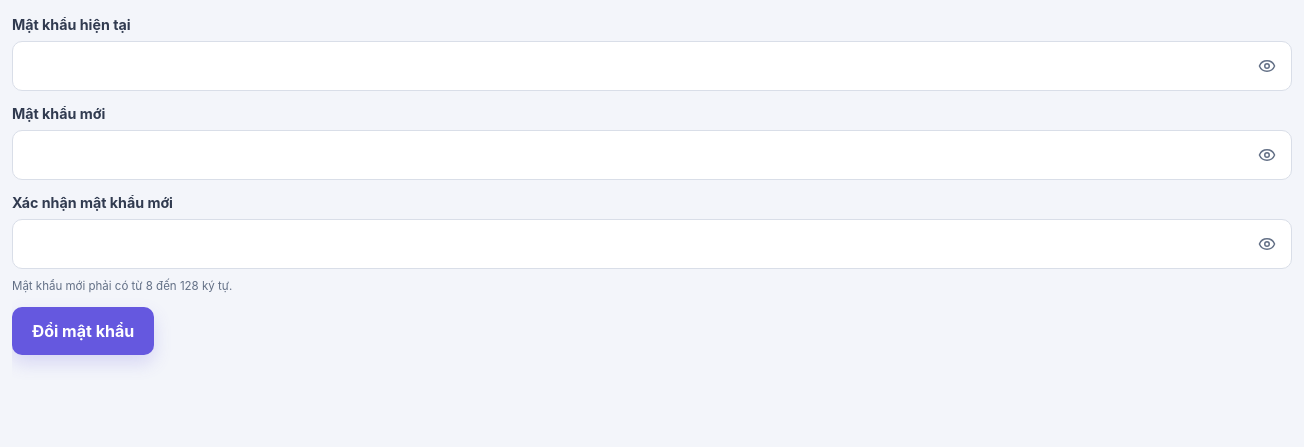
Test case: ChangePasswordForm › shows an API error and keeps the user on the form
The width and height of the screenshot is (1304, 447).
Type "old-pass-123" into the password field labelled "Mật khẩu hiện tại" at (652, 66), box [12,41,1292,91]
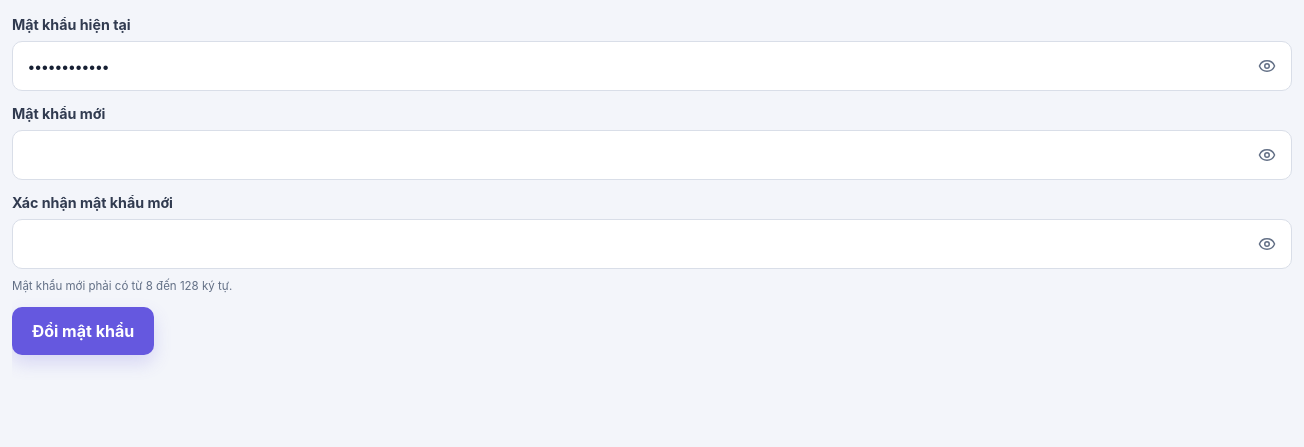
Type "new-pass-123" into the password field labelled "Mật khẩu mới" at (652, 155), box [12,130,1292,180]
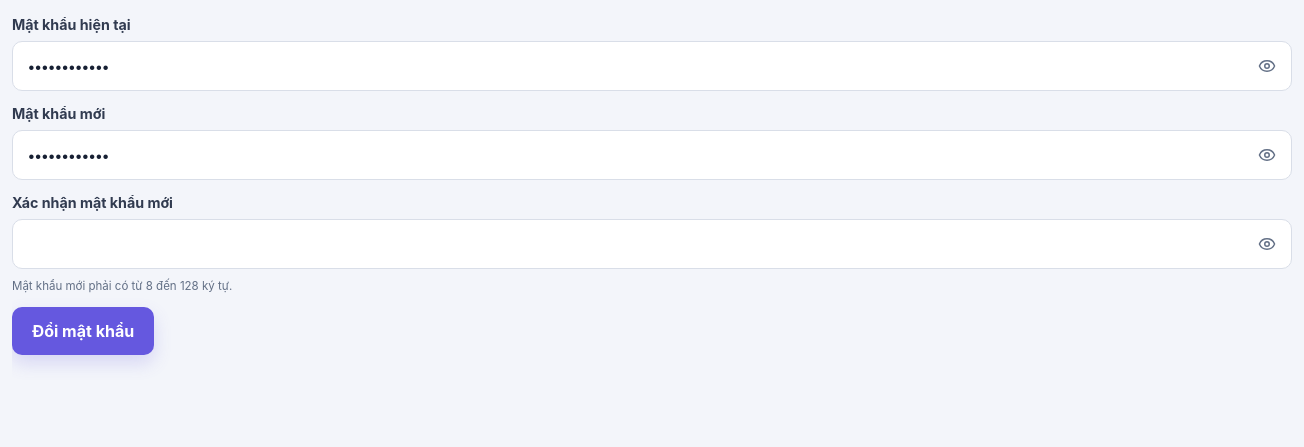
Type "new-pass-123" into the password field labelled "Xác nhận mật khẩu mới" at (652, 244), box [12,219,1292,269]
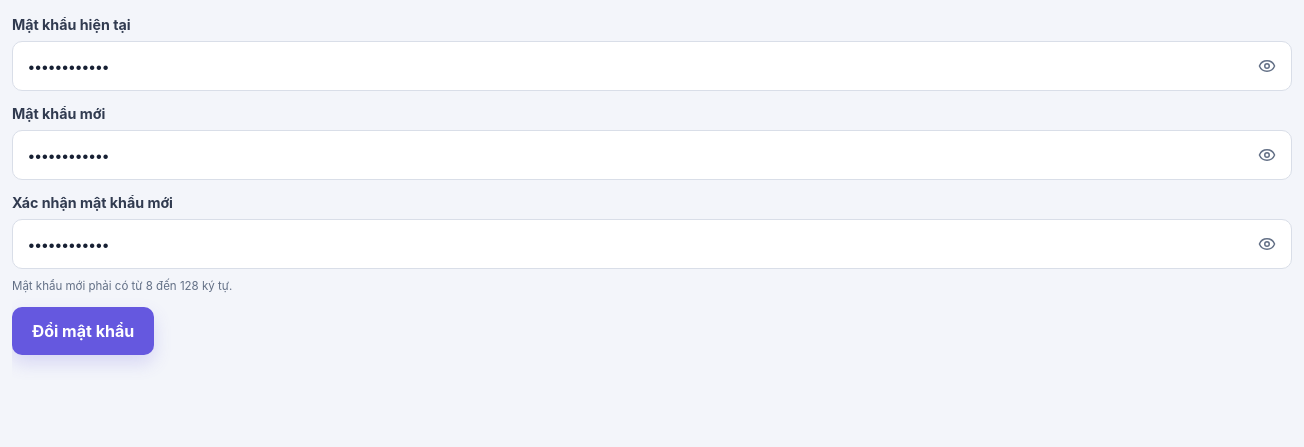
Click the button "Đổi mật khẩu" at (83, 331), box [12,307,154,355]
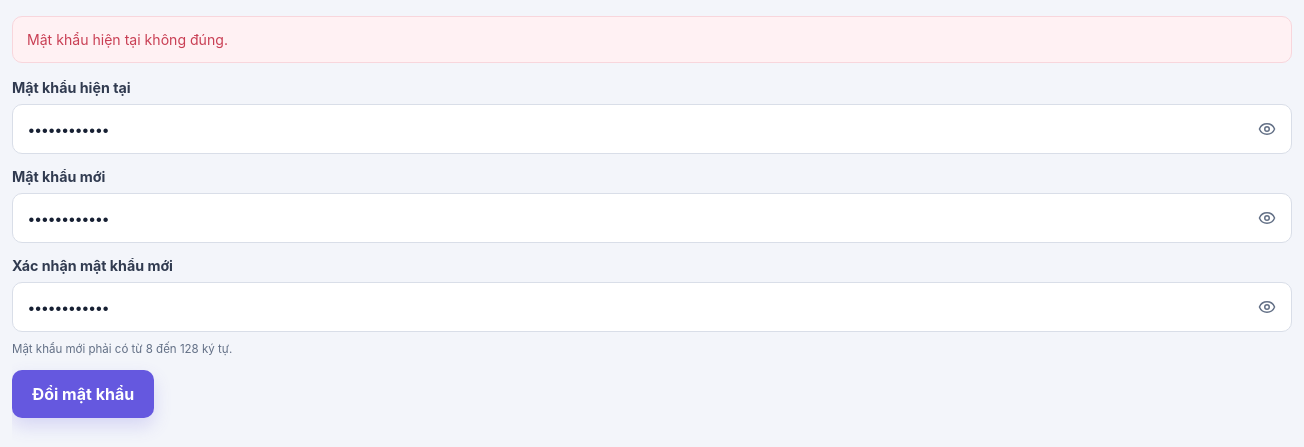
Expected: the message reads "Mật khẩu hiện tại không đúng.", [27,31,228,48]
